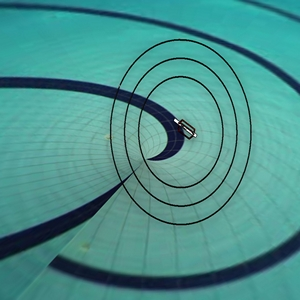circle: (99, 33, 260, 233)
submarine: (169, 114, 202, 145)
